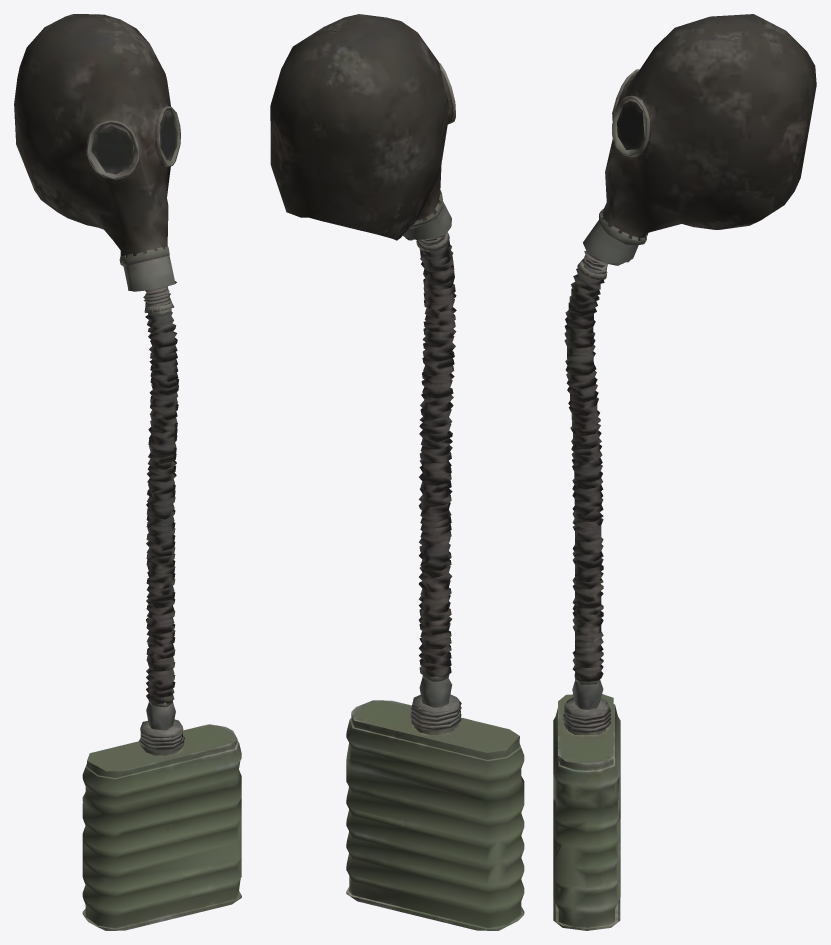
File: old_gas_mask.glb
3 views of the same model, side by side, from view 1: azimuth 30°, elevation 25°; view 2: azimuth 150°, elevation 25°; view 3: azimuth 270°, elevation 25° (orthographic). The views are drawn at different scales.
Parts seen in each view (by area): view 1: old_gas_mask; view 2: old_gas_mask; view 3: old_gas_mask.
Boxes of the visible parts, bbox=[...] form: old_gas_mask: bbox=[14, 14, 241, 930]; old_gas_mask: bbox=[270, 14, 524, 930]; old_gas_mask: bbox=[553, 14, 816, 930].
Bounding box in the file's own units: 0.2105 × 1.13 × 0.3082.
1 material, 1 textured.
